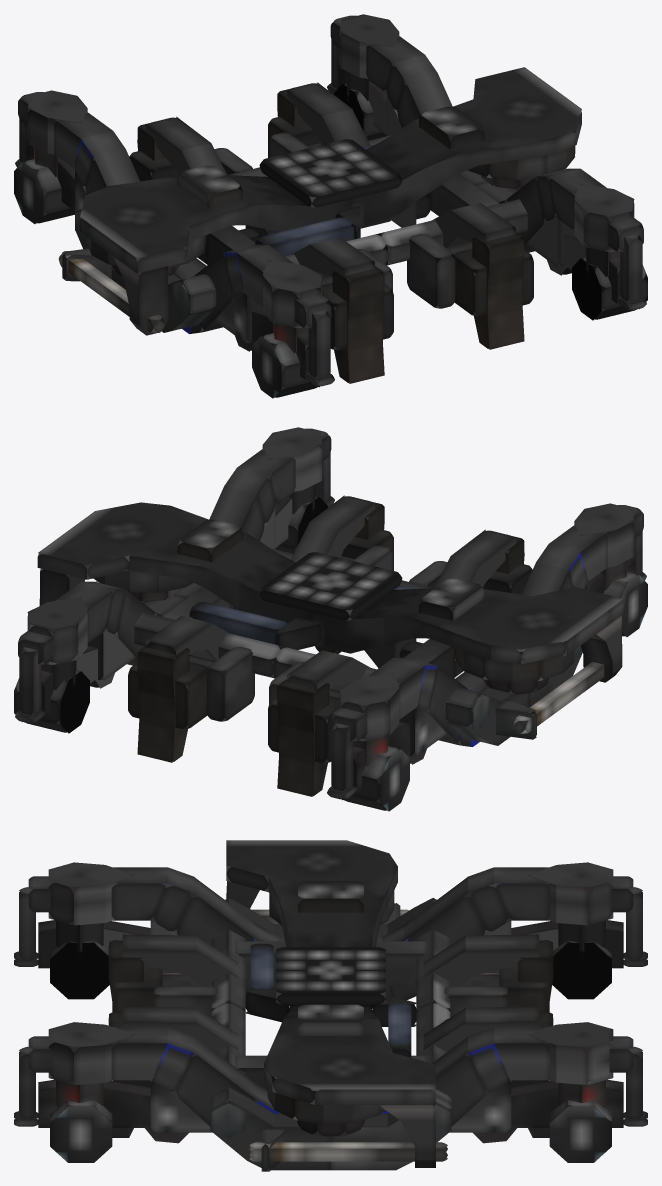
The model's file is sw160_frame.obj.
3 views of the same model, one above another, from view 1: azimuth 30°, elevation 25°; view 2: azimuth 150°, elevation 25°; view 3: azimuth 270°, elevation 25° (orthographic). The views are drawn at different scales.
Visible parts, largest first — view 1: cube; view 2: cube; view 3: cube.
Boxes of the visible parts, left/top/right/bottom form: cube: left=14, top=14, right=647, bottom=398; cube: left=14, top=427, right=647, bottom=811; cube: left=14, top=840, right=647, bottom=1171.
Bounding box in the file's own units: 3.03 × 0.8 × 3.25.
